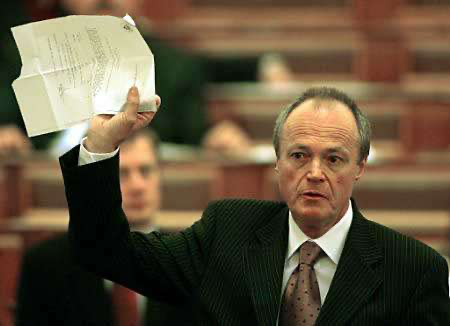Face: (276, 108, 359, 223), (118, 149, 167, 223)
